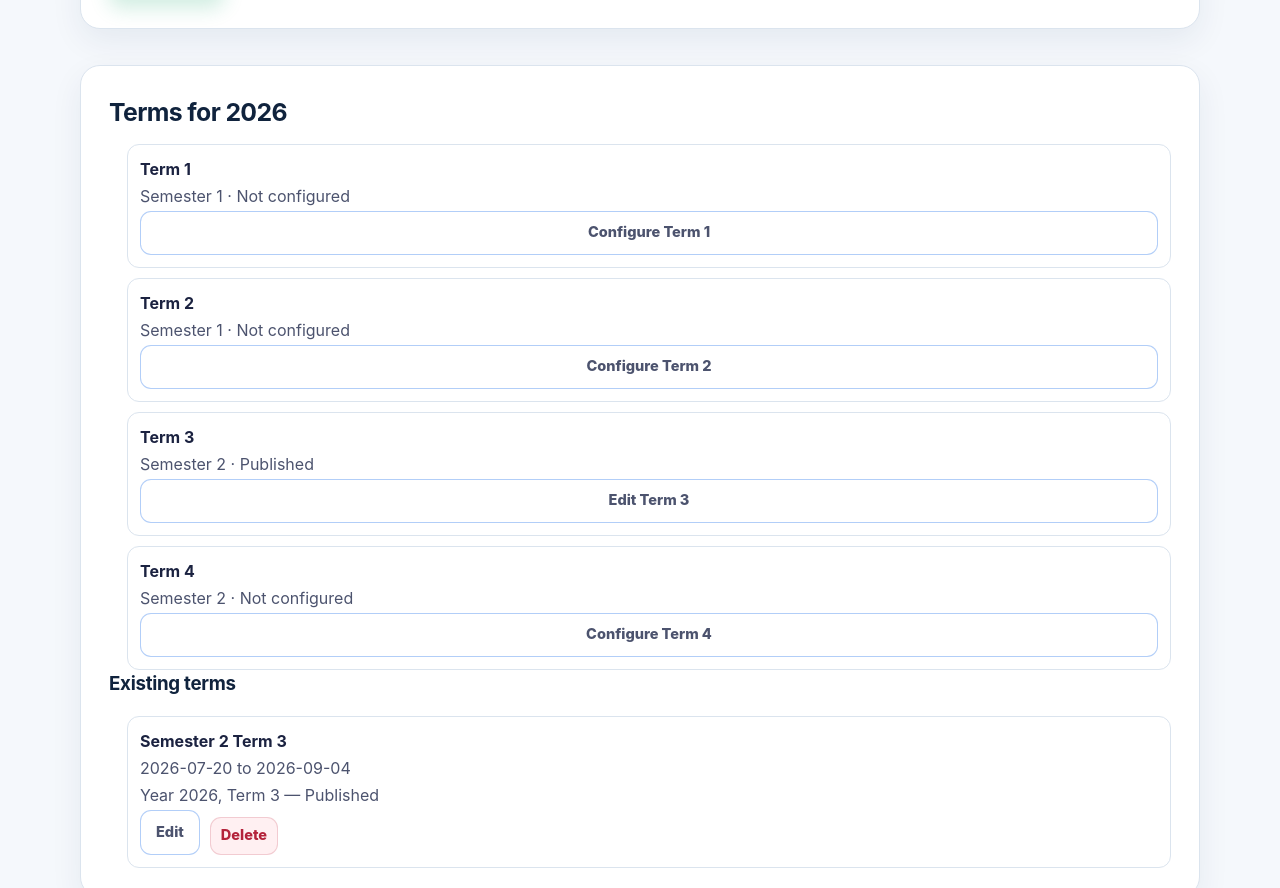
Test: academic terms › moves an existing term into the edit form when its Edit button is used
The width and height of the screenshot is (1280, 888).
(page scrolled)
Expected: the text "Semester 2 Term 3" is shown, [140, 732, 287, 752]
Click the button "Edit Term 3": x=649, y=501 [140, 479, 1158, 523]
(page scrolled)
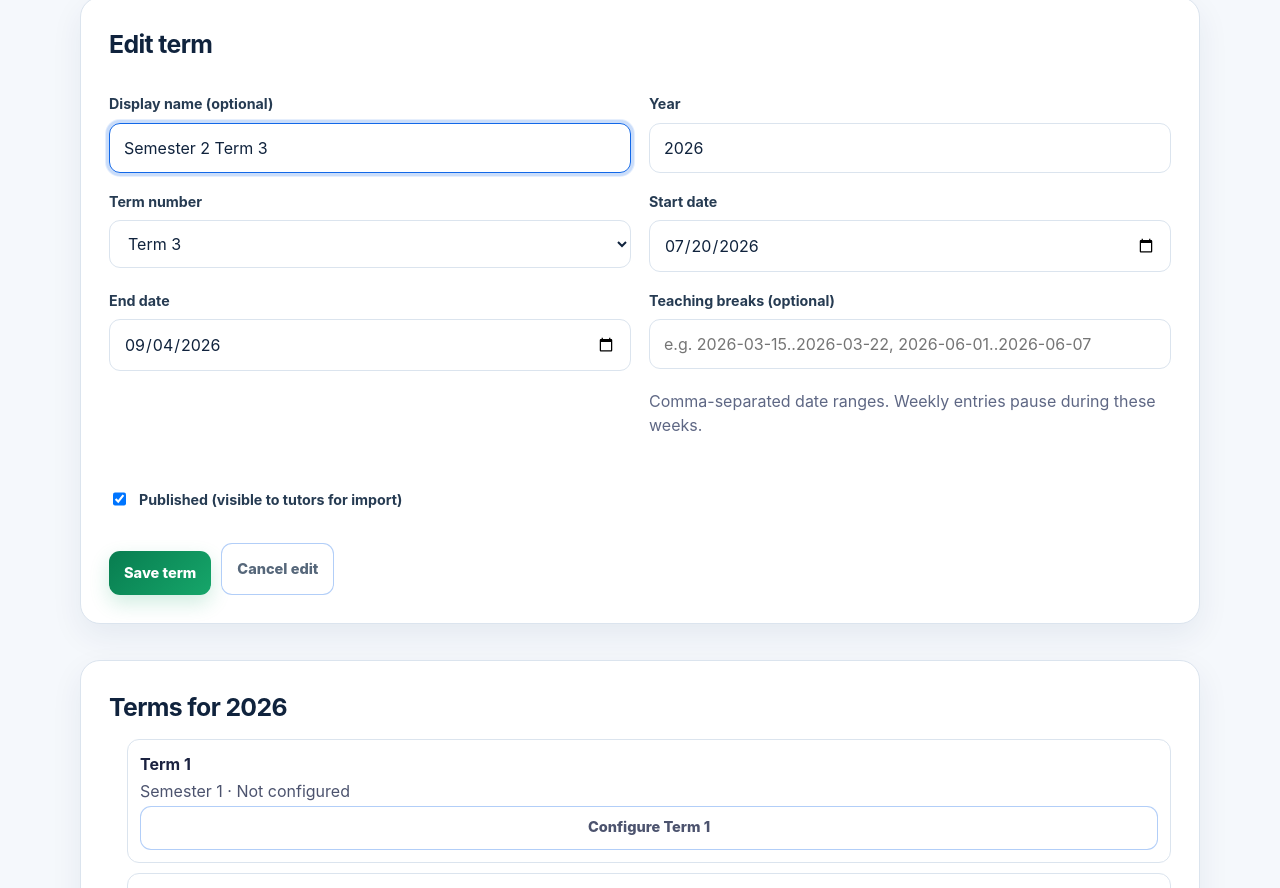
Now the heading "Edit term" is shown, box [109, 29, 212, 59]
Now the field labelled "Display name (optional)" holds "Semester 2 Term 3", box [109, 123, 631, 173]
Now the dropdown labelled "Term number" shows "Term 3", box [109, 220, 631, 268]
